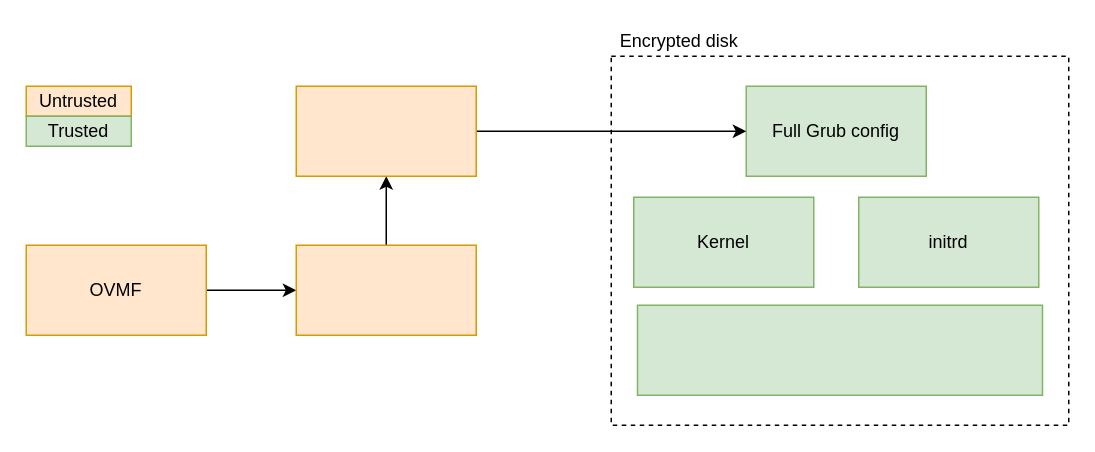
The diagram is 1095 pixels wide and 452 high, and some of its shapes have lost their labels. Each missing label, with the centre of its shape:
"Grub" belongs at (x=385, y=289).
"Minimal Grub config" belongs at (x=385, y=130).
"Root filesystem" belongs at (x=839, y=349).
